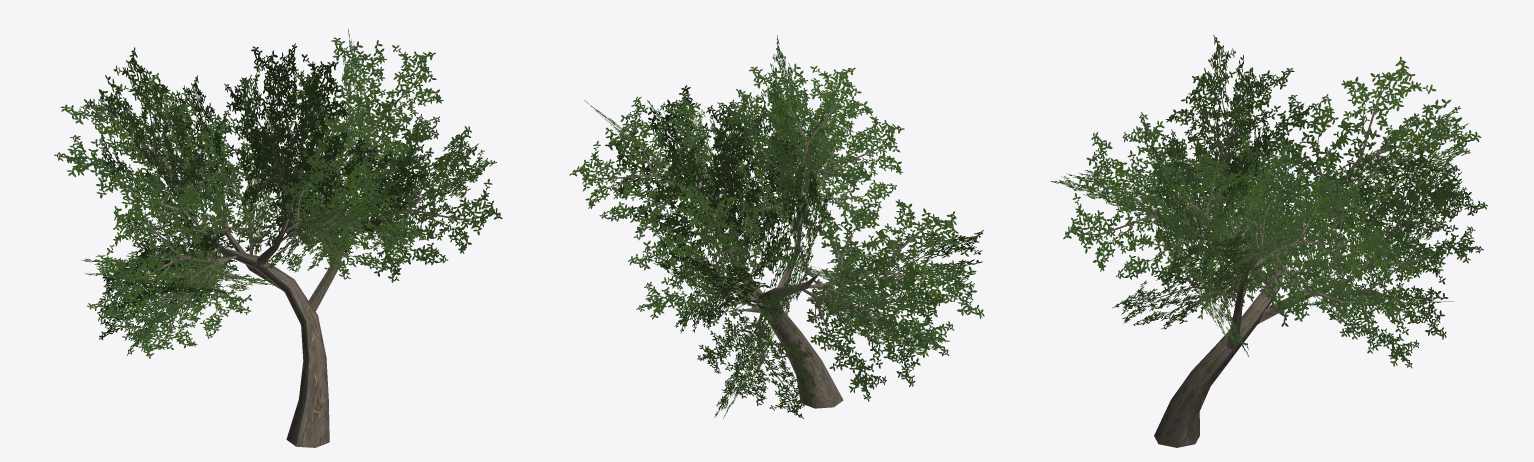
File: obj__tree3.obj
The picture shows the model from 3 angles, left to right: view 1: azimuth 30°, elevation 25°; view 2: azimuth 150°, elevation 25°; view 3: azimuth 270°, elevation 25°; orthographic projection. The views are drawn at different scales.
Parts seen in each view (by area): view 1: tree3.tga; view 2: tree3.tga; view 3: tree3.tga.
Part boxes in pixels (x1,y1,x2,y2): tree3.tga: [54, 28, 502, 447]; tree3.tga: [569, 35, 984, 418]; tree3.tga: [1050, 35, 1487, 447].
Bounding box in the file's own units: 63.73 × 53.6 × 60.19.
Materials: 1 (1 with a texture image).
